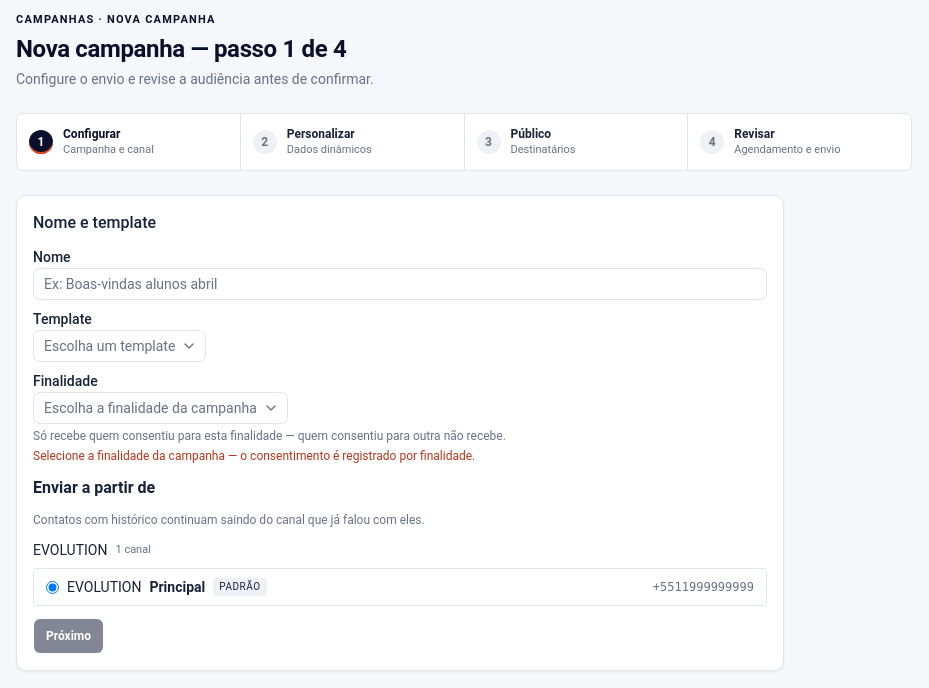
Test case: passo 1 — template indisparável não pode ser escolhido às cegas › aparece DESABILITADO no select, com o motivo no próprio rótulo
Click the dropdown labelled "Escolha um template".
click(120, 346)  # box [33,330,206,362]
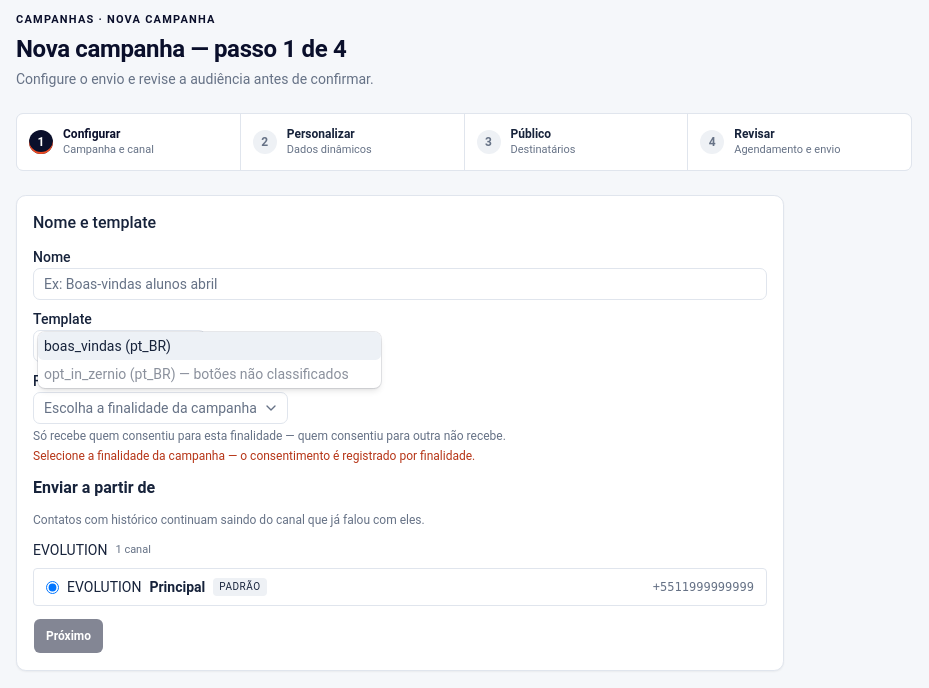
Check: the option "opt_in_zernio (pt_BR) — botões não classificados" is shown, box [44,366,349,382]
